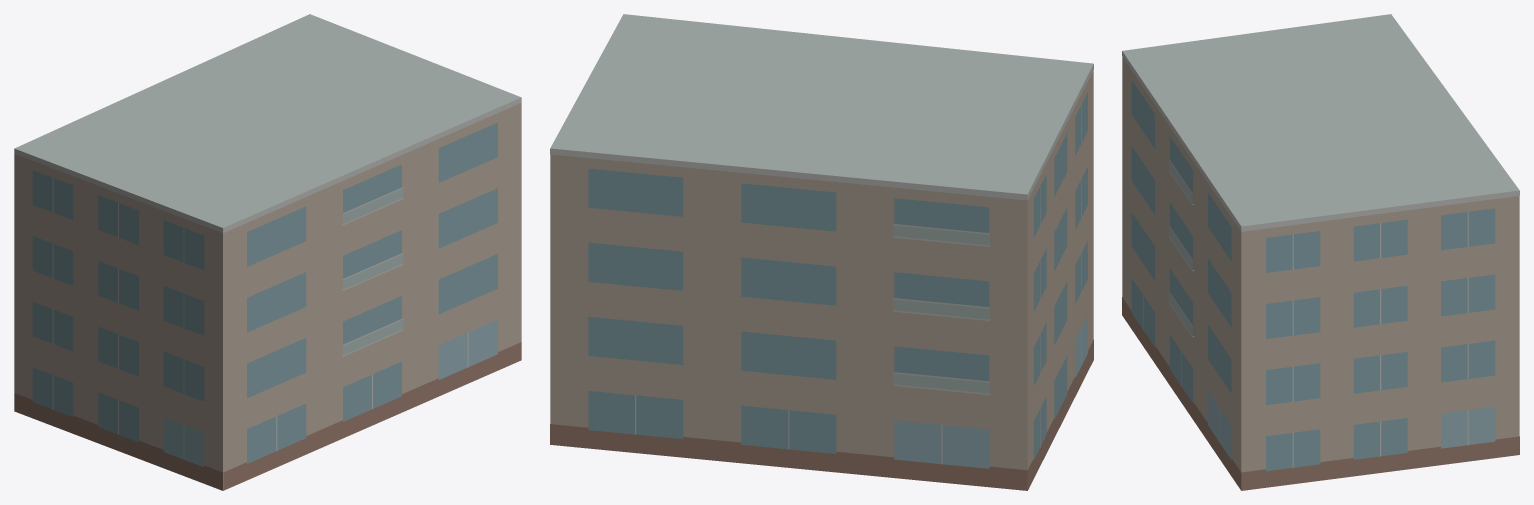
File: survey-upis-33039827.glb
3 renders of one model, left to right at view 1: azimuth 30°, elevation 25°; view 2: azimuth 150°, elevation 25°; view 3: azimuth 270°, elevation 25°, orthographic. The views are drawn at different scales.
Parts seen in each view (by area): view 1: survey-upis-33039827.tmp; view 2: survey-upis-33039827.tmp; view 3: survey-upis-33039827.tmp.
Boxes of the visible parts, left/top/right/bottom form: survey-upis-33039827.tmp: left=14, top=14, right=521, bottom=490; survey-upis-33039827.tmp: left=550, top=14, right=1093, bottom=490; survey-upis-33039827.tmp: left=1122, top=14, right=1519, bottom=490.
Size of the model in its own units: 21.04 by 12.2 by 16.64.
